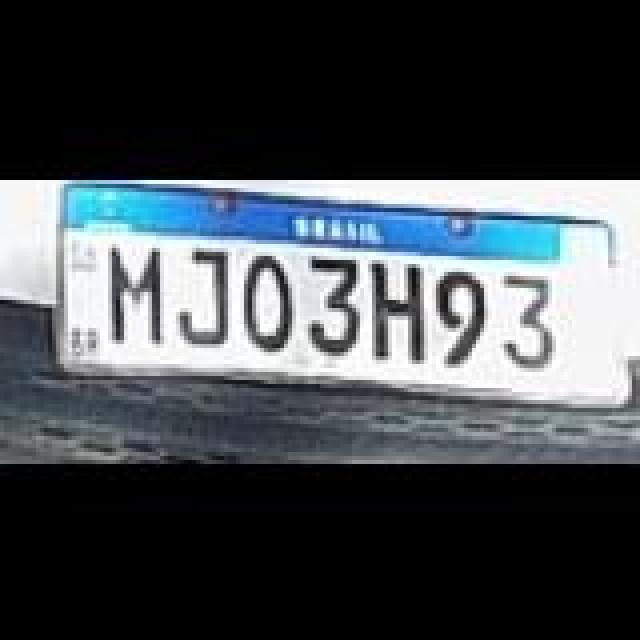3: (308, 254, 364, 354), (504, 272, 560, 368)
9: (436, 262, 492, 362)
H: (372, 260, 428, 364)
J: (180, 246, 236, 346)
M: (106, 240, 166, 344)
O: (240, 250, 296, 350)
